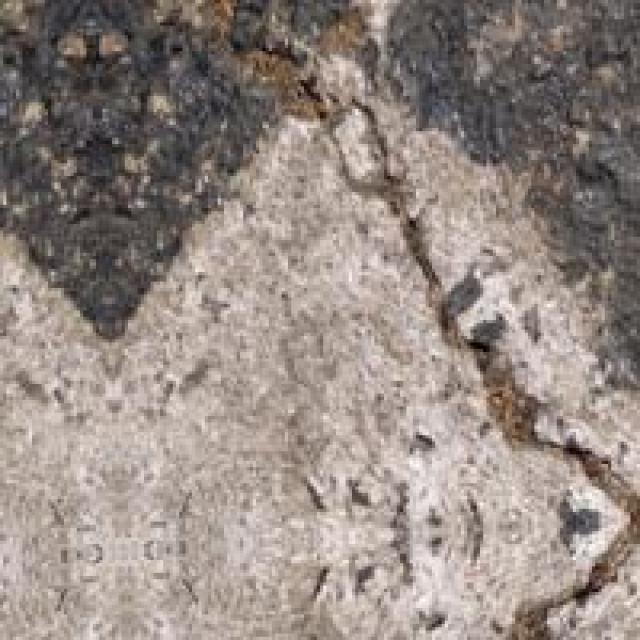Crack: (278, 86, 630, 637)
